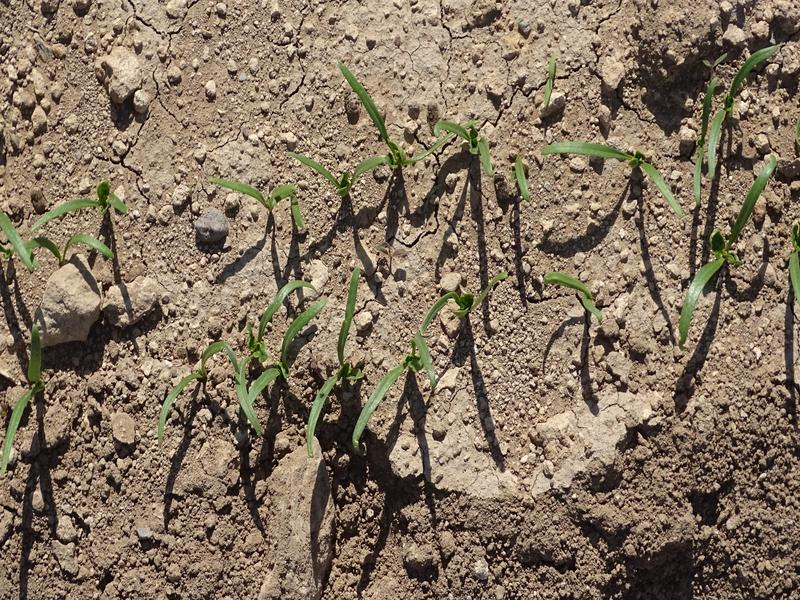Espinaca: (157, 273, 454, 448), (292, 74, 532, 201), (679, 43, 779, 334), (538, 139, 683, 215), (1, 183, 128, 263), (1, 318, 40, 469), (546, 272, 607, 323), (222, 177, 292, 215)
